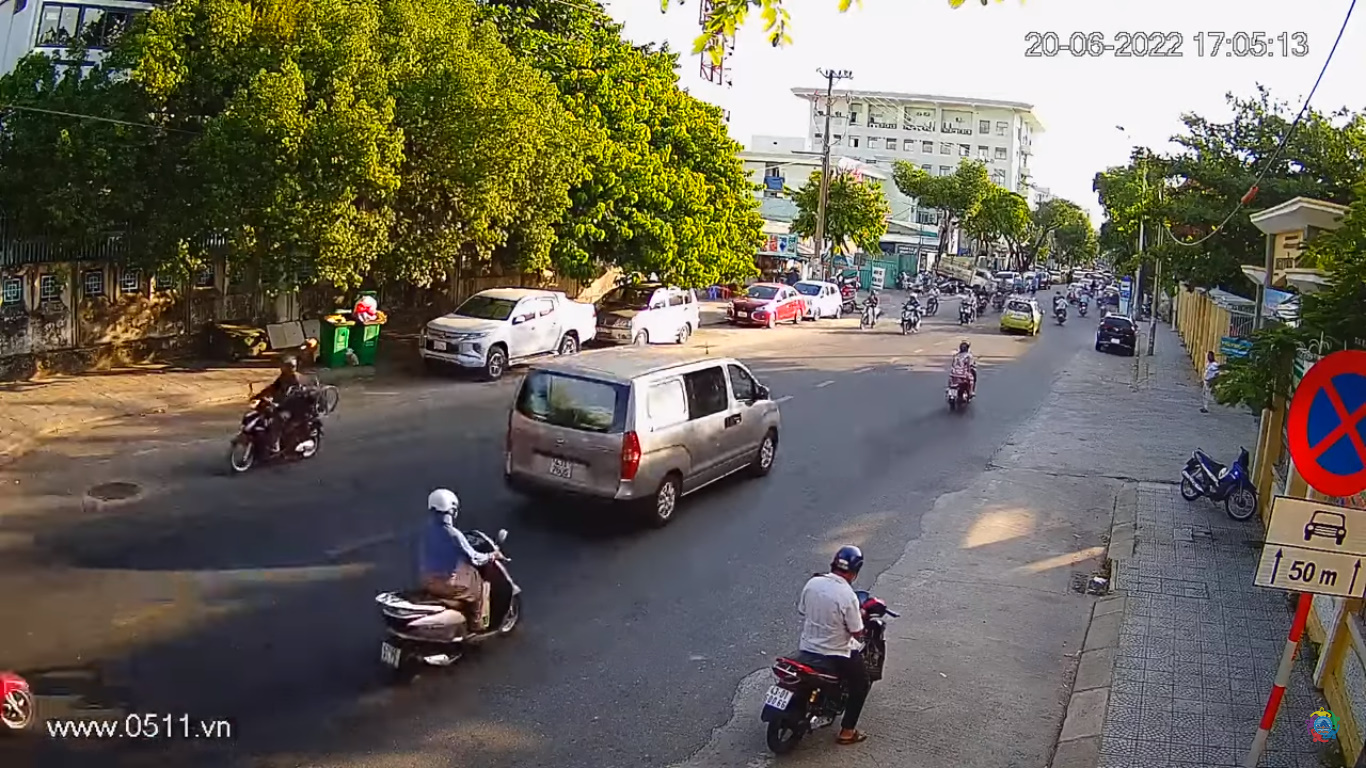car: (505, 347, 785, 525)
